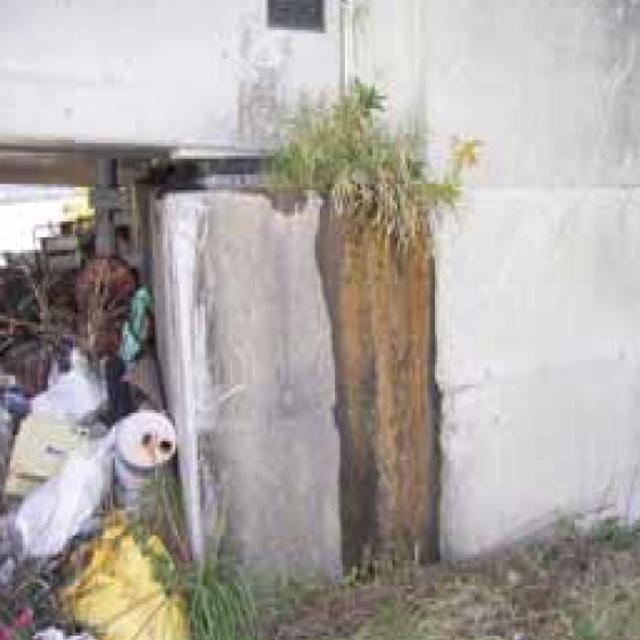leakage: (322, 183, 457, 581)
